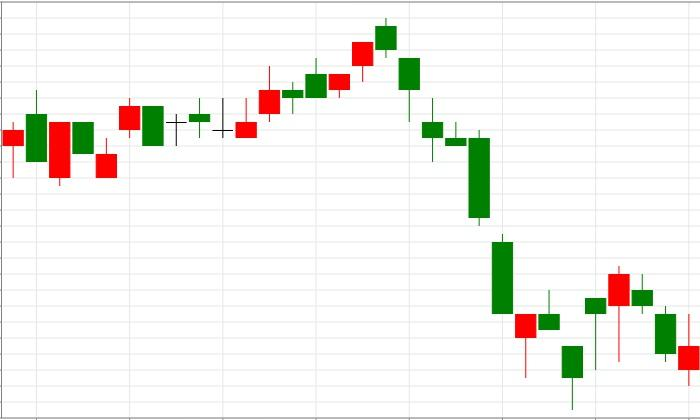three_black_crows_fall: (235, 18, 444, 161)
